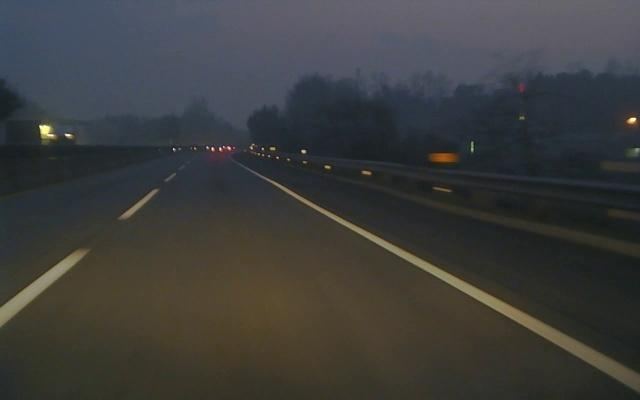lane: (247, 169, 640, 394), (0, 174, 177, 330)
